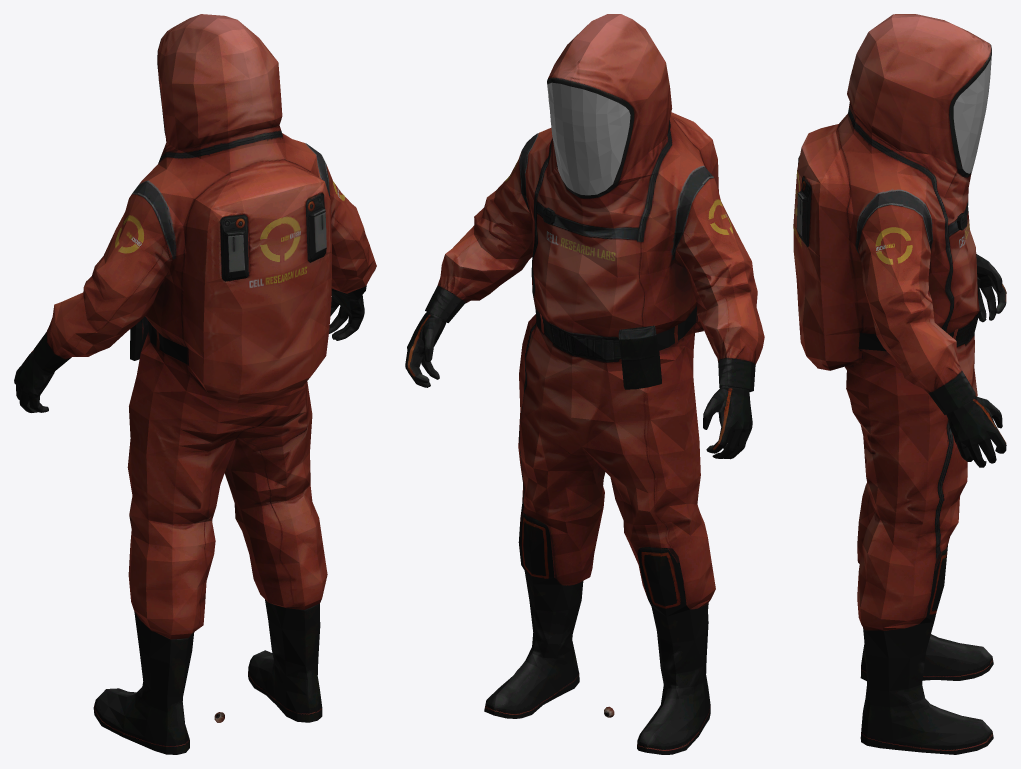
File: Hazmatsuit.obj
3 views of the same model, side by side, from view 1: azimuth 30°, elevation 25°; view 2: azimuth 150°, elevation 25°; view 3: azimuth 270°, elevation 25° (orthographic).
Parts seen in each view (by area): view 1: Mesh_0030, Mesh_0029; view 2: Mesh_0029, Mesh_0030, Mesh_0013; view 3: Mesh_0030, Mesh_0029, Mesh_0013.
Boxes of the visible parts, x1,y1,x2,y2 form: Mesh_0030: (93,125,331,754); Mesh_0029: (14,14,376,412); Mesh_0029: (405,14,764,459); Mesh_0030: (484,112,718,754); Mesh_0013: (547,82,630,195); Mesh_0030: (793,102,993,754); Mesh_0029: (796,14,1006,467); Mesh_0013: (953,54,991,173).
Size of the model in its own units: 99.27 by 197 by 54.5.
